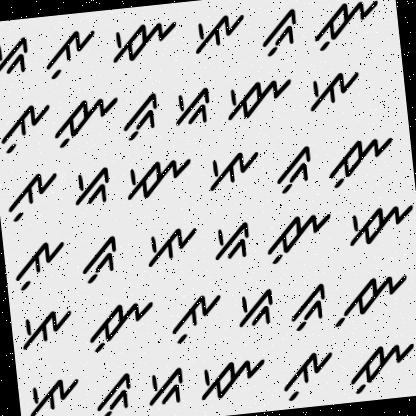e: (188, 3, 252, 62), (298, 62, 364, 115), (138, 222, 202, 273), (16, 304, 78, 354), (202, 146, 262, 196), (20, 374, 84, 416)
ngge: (167, 80, 216, 134), (204, 217, 254, 266), (66, 164, 117, 212), (232, 286, 276, 338), (142, 366, 187, 412), (0, 28, 33, 87)
nggu: (265, 140, 316, 198), (280, 275, 330, 334), (253, 3, 302, 62), (76, 232, 122, 284), (120, 89, 164, 143), (88, 369, 136, 416)
nje: (103, 11, 182, 72), (219, 68, 296, 124), (193, 350, 270, 406), (118, 148, 196, 202), (342, 200, 416, 251)
nju: (78, 293, 158, 361), (329, 267, 414, 330), (320, 130, 400, 192), (340, 334, 416, 399), (263, 206, 338, 267), (51, 92, 124, 154), (308, 0, 388, 56)
u: (274, 346, 338, 407), (8, 233, 70, 293), (2, 164, 63, 224), (164, 288, 226, 346), (41, 26, 100, 84), (0, 99, 54, 160)
